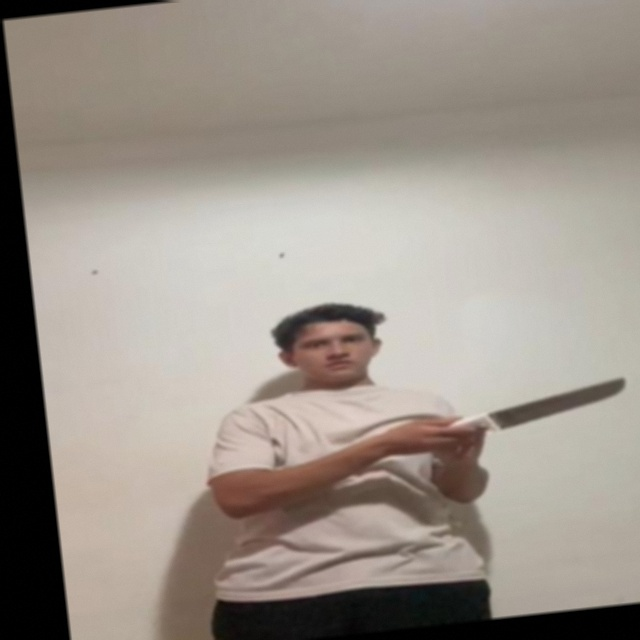Sharp-Object: (493, 375, 627, 429)
